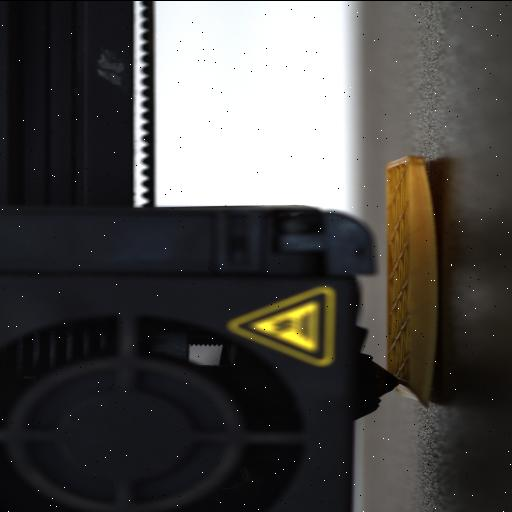warp: (419, 174, 441, 404)
